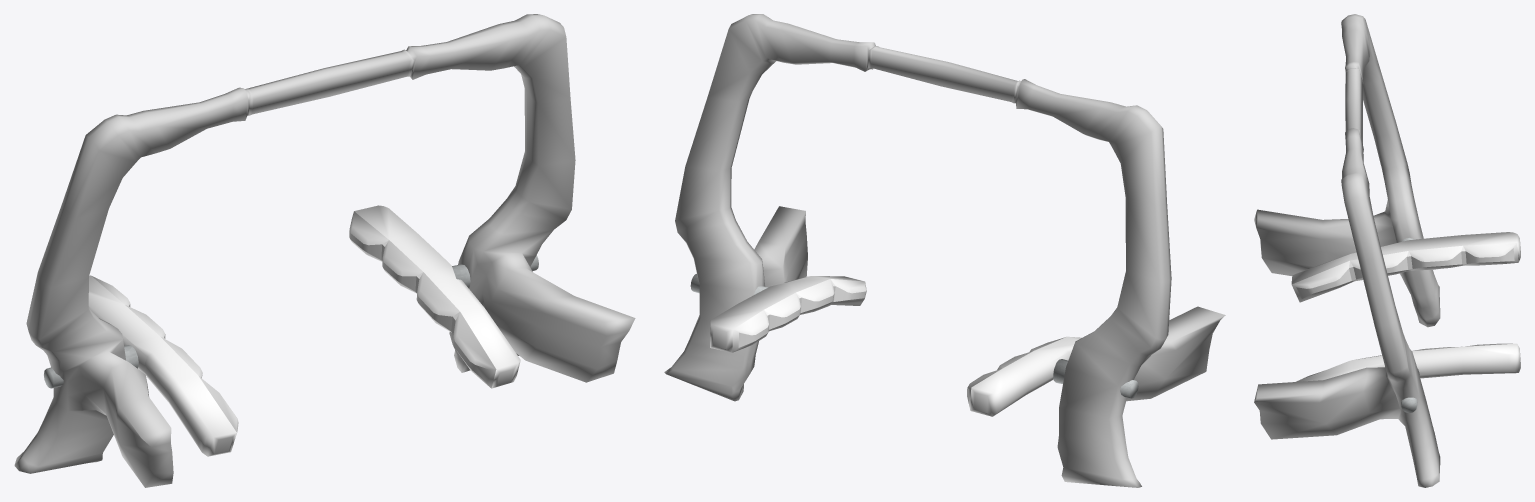
File: Freio frontal.glb
The picture shows the model from 3 angles, left to right: view 1: azimuth 30°, elevation 25°; view 2: azimuth 150°, elevation 25°; view 3: azimuth 270°, elevation 25°; orthographic projection. The views are drawn at different scales.
Parts seen in each view (by area): view 1: Freio frontal; view 2: Freio frontal; view 3: Freio frontal.
Boxes of the visible parts, x1,y1,x2,y2 form: Freio frontal: (14,14,635,487); Freio frontal: (664,14,1225,487); Freio frontal: (1254,14,1520,487).
Bounding box in the file's own units: 0.1529 × 0.1051 × 0.0843.
3 materials, 1 textured.
